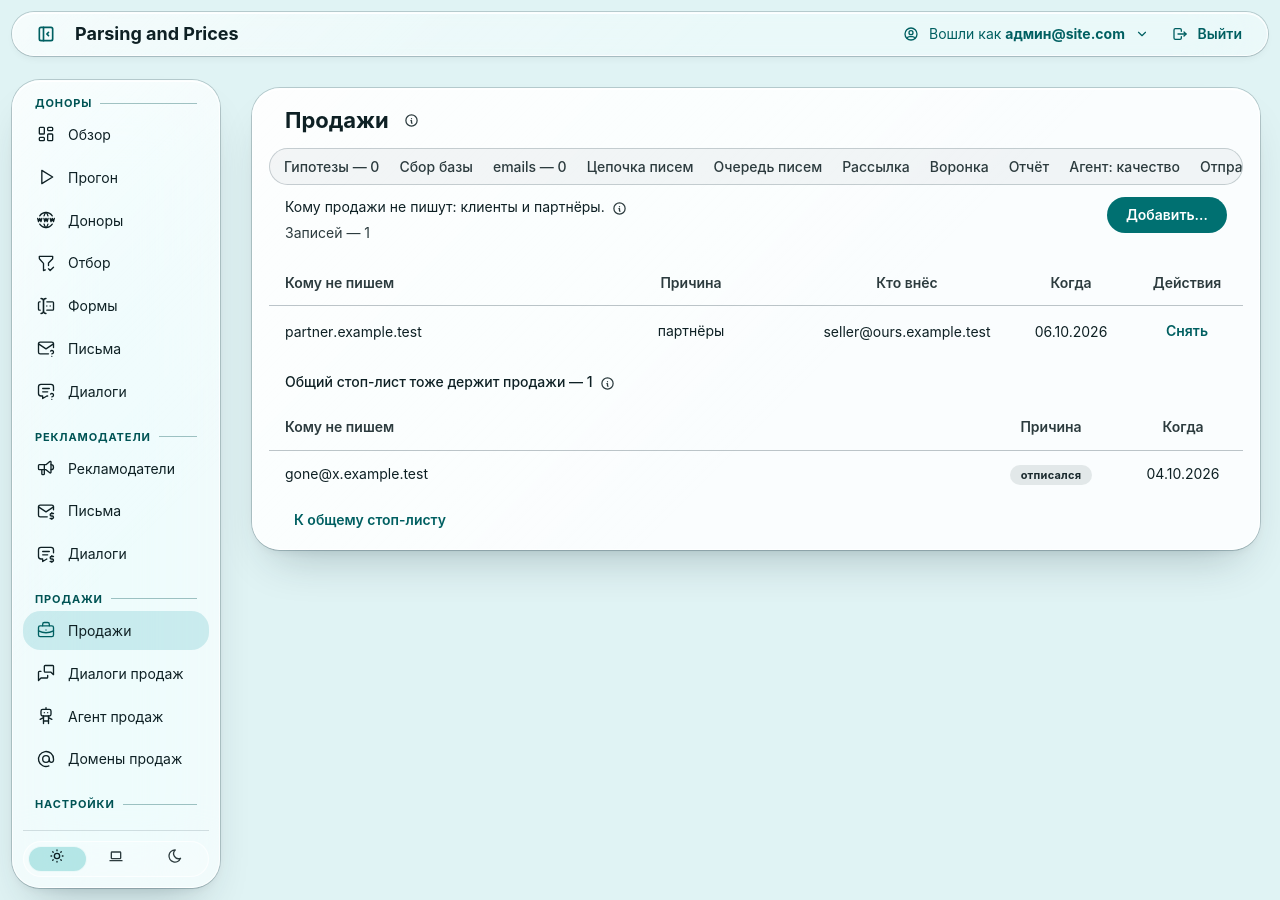
Test case: стоп-лист продаж › снятие — с подтверждением, итог называет вернувшихся лидов
expect the text "partner.example.test" is shown: met, box [269,306,579,356]
What coordinates should you click on to do the following:
click the button with aria-label "Снять partner.example.test со стоп-листа продаж"
I would click on:
 (1187, 332)
Its box is [1157,318,1217,344].
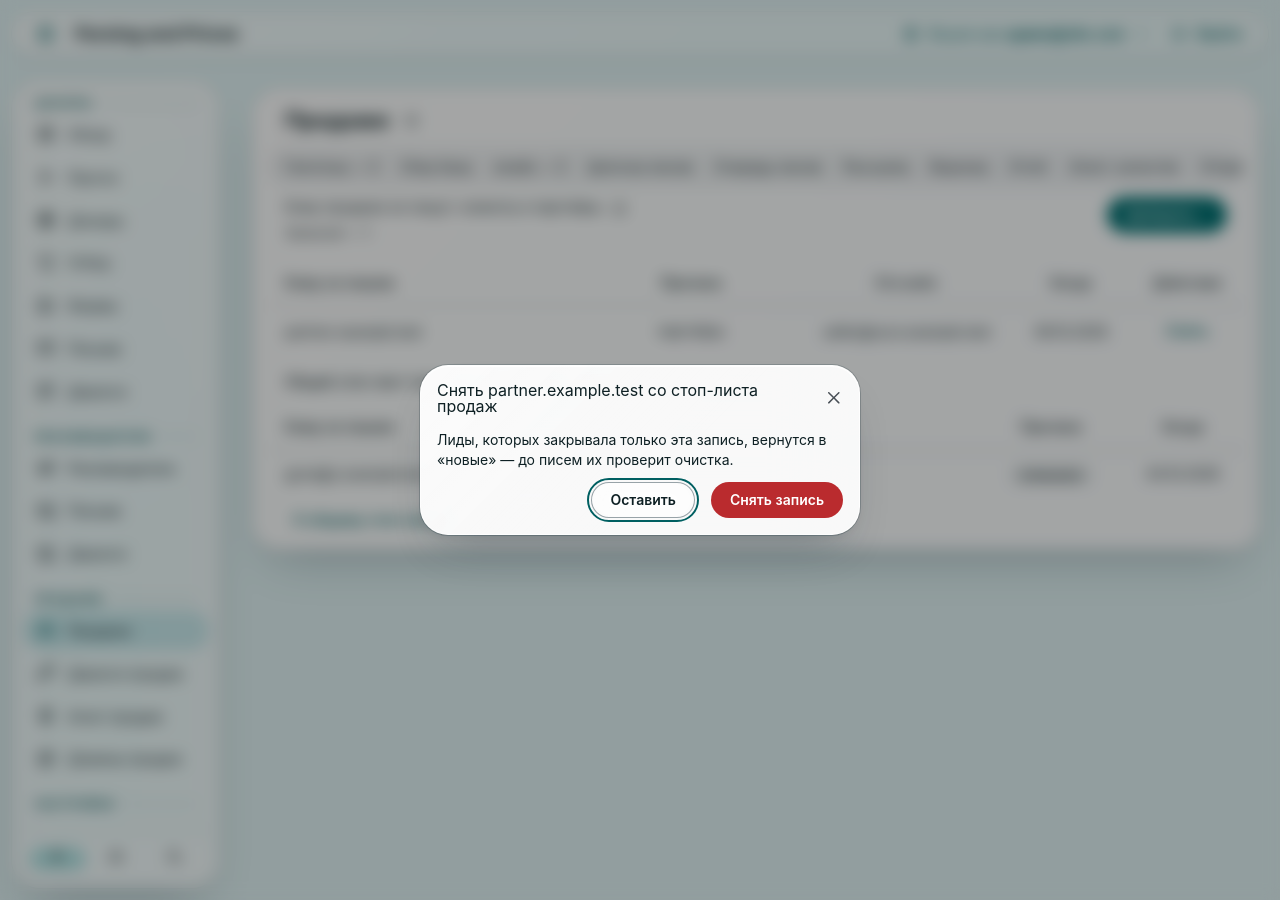
expect the dialog shows "вернутся в «новые» — до писем их проверит очистка": met, box [437,431,826,468]
What coordinates should you click on to do the following:
click the button "Снять запись"
I would click on:
 (777, 500)
Its box is [711,482,843,518].
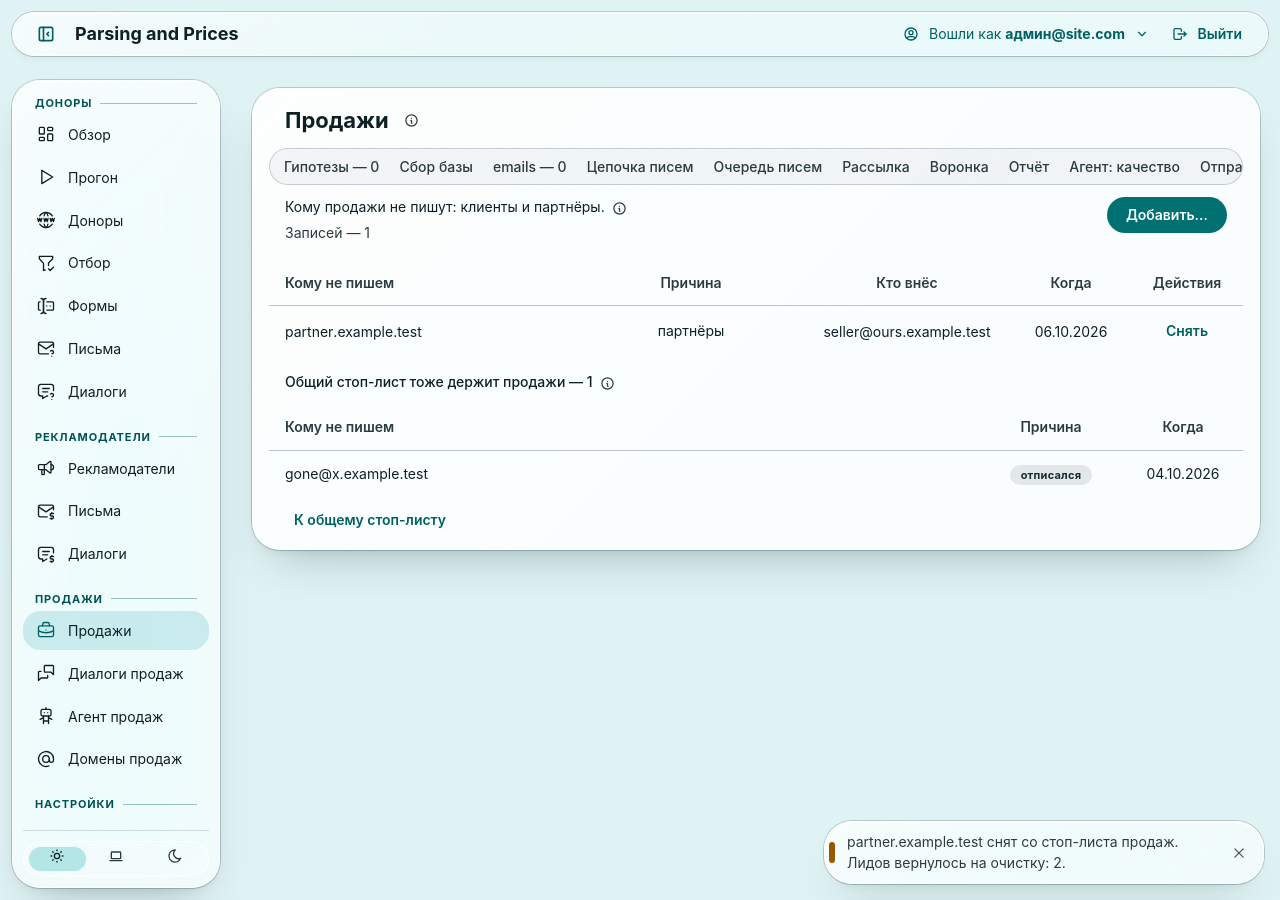
expect the dialog is gone: met
